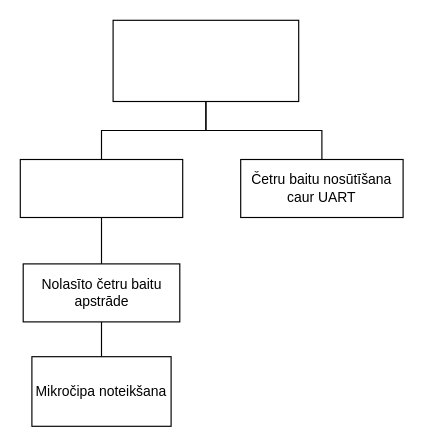
This 423x447 diagram has some shape labels left out. Each missing label, with the centre of its shape:
Pievienotā mikročipa noteikšana: [205,60]
Četru baitu nolasīšana caur UART: [101,187]
